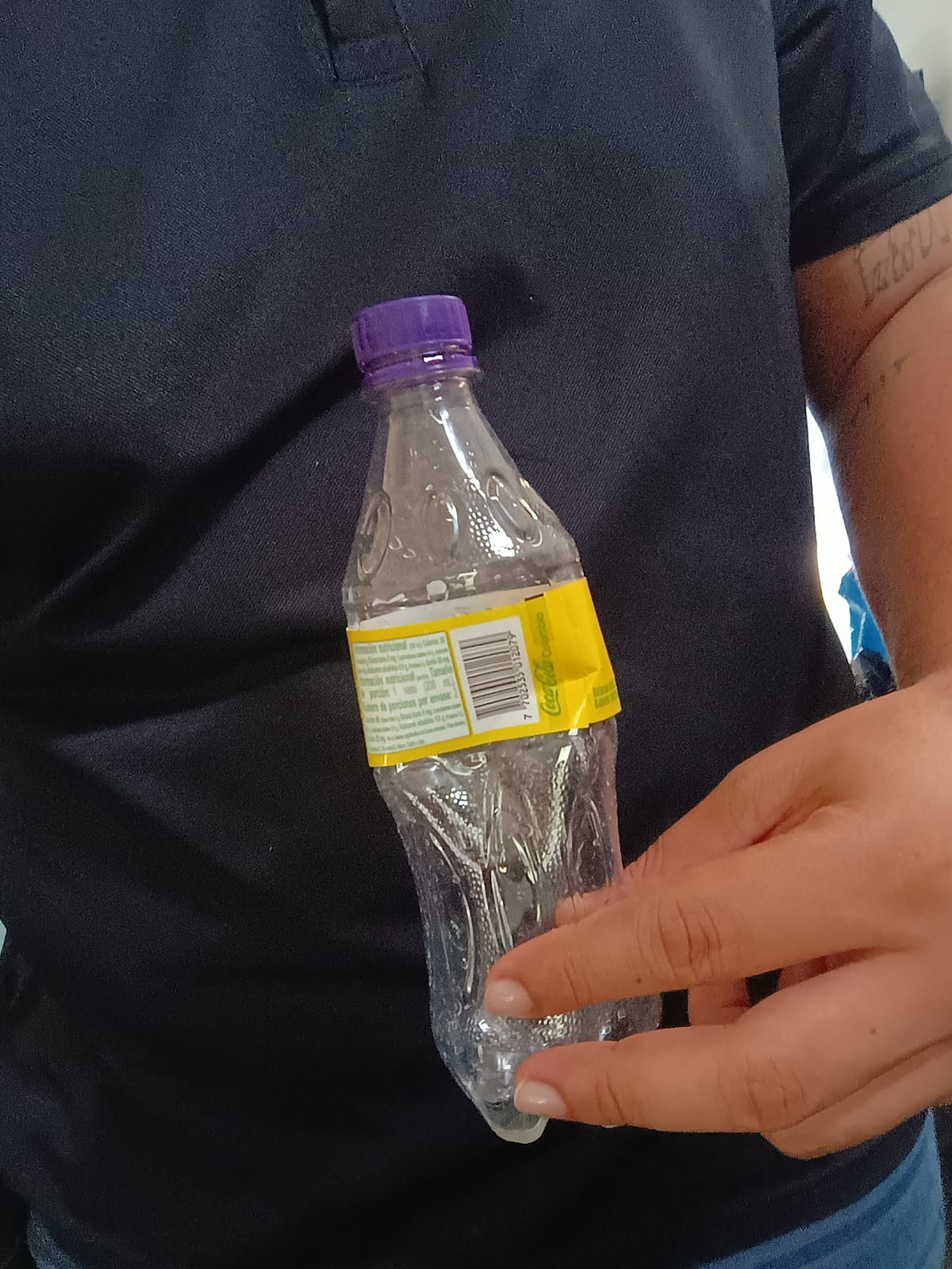Plastico: (338, 292, 662, 1145)
